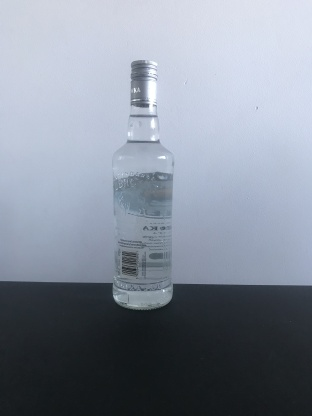nakretka: (129, 57, 159, 109)
